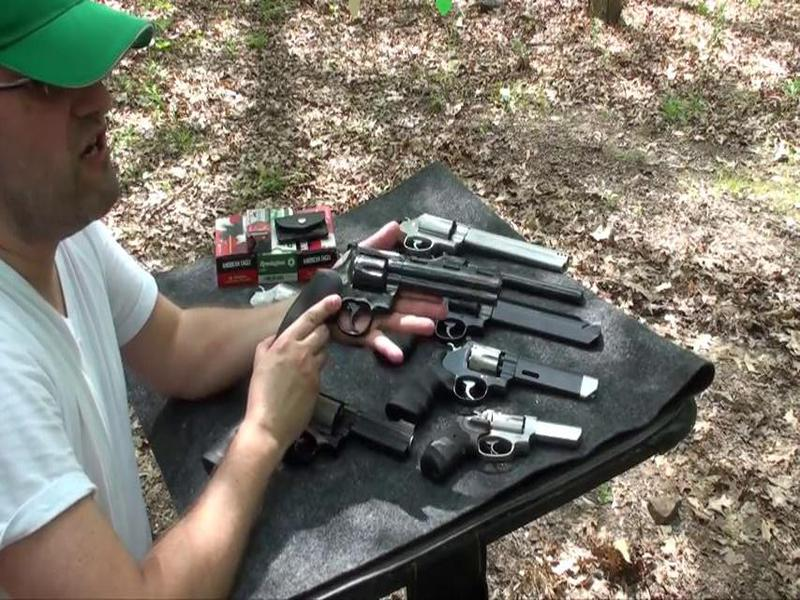Revolver: (283, 236, 502, 368)
